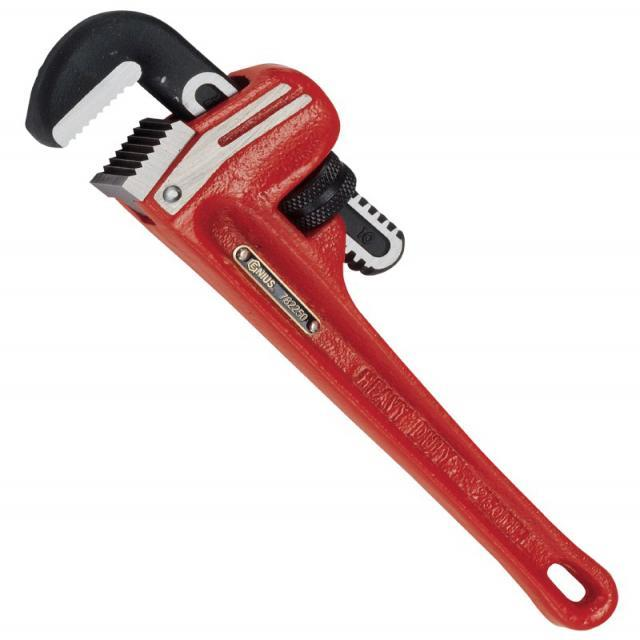wrench: (20, 8, 626, 634)
